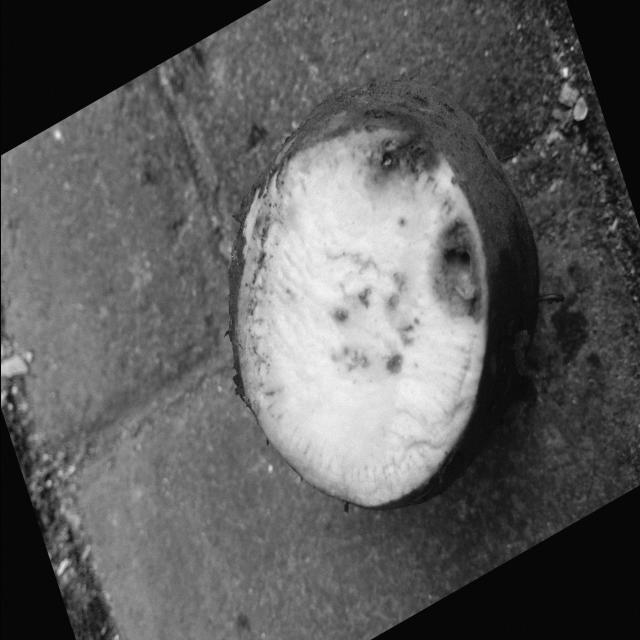Sick Sweet Potato_Tuber Rot: (230, 128, 486, 507)
